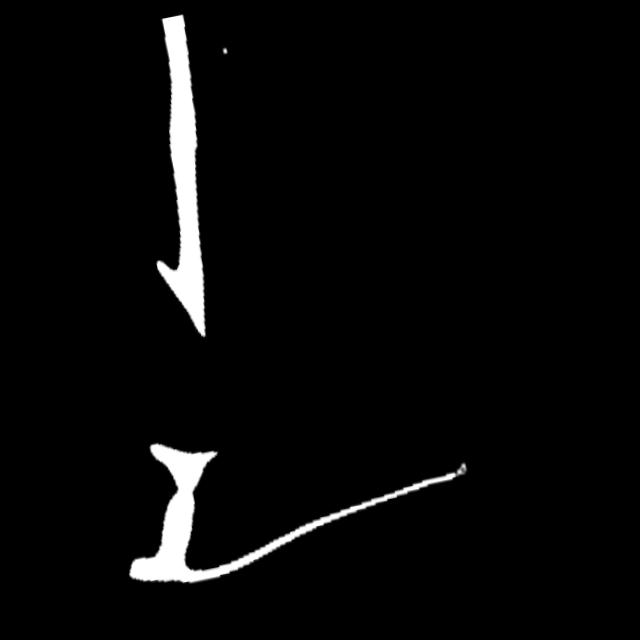stp: (442, 457, 474, 490)
